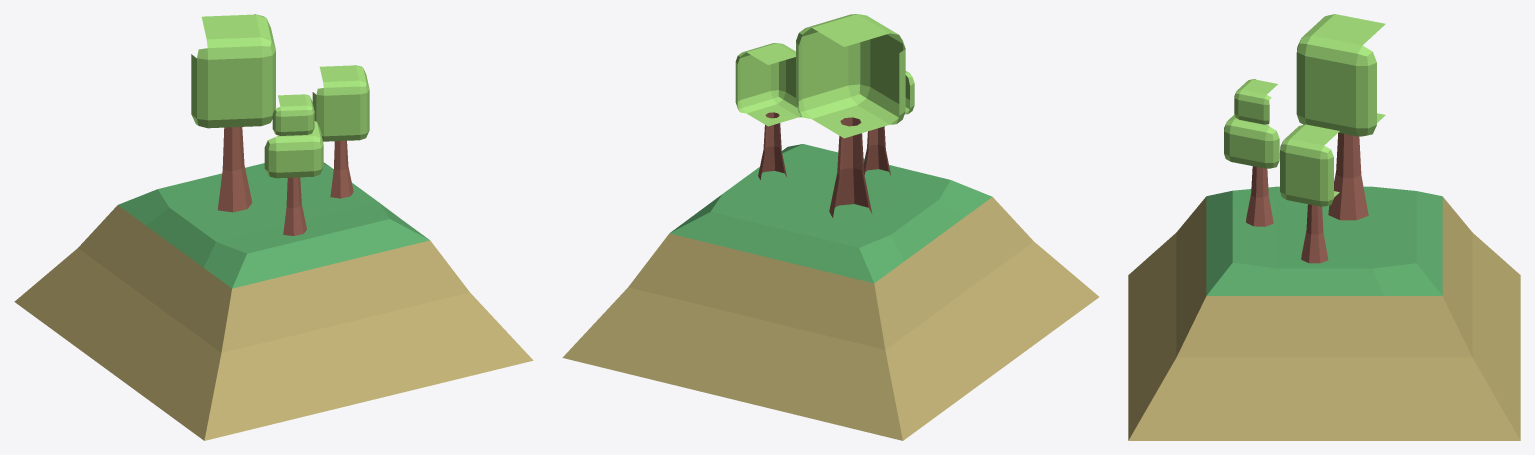
The model's file is больш остров.fbx.
3 renders of one model, left to right at view 1: azimuth 30°, elevation 25°; view 2: azimuth 150°, elevation 25°; view 3: azimuth 270°, elevation 25°, orthographic. The views are drawn at different scales.
Visible parts, largest first — view 1: Cube, Деревья3.002; view 2: Cube, Деревья3.002; view 3: Cube, Деревья3.002.
Boxes of the visible parts, x1,y1,x2,y2 form: Cube: (14,162,533,440); Деревья3.002: (191,14,369,235); Cube: (562,144,1098,440); Деревья3.002: (735,14,914,217); Cube: (1128,186,1520,440); Деревья3.002: (1224,14,1385,263).
Size of the model in its own units: 520 by 457 by 520.
